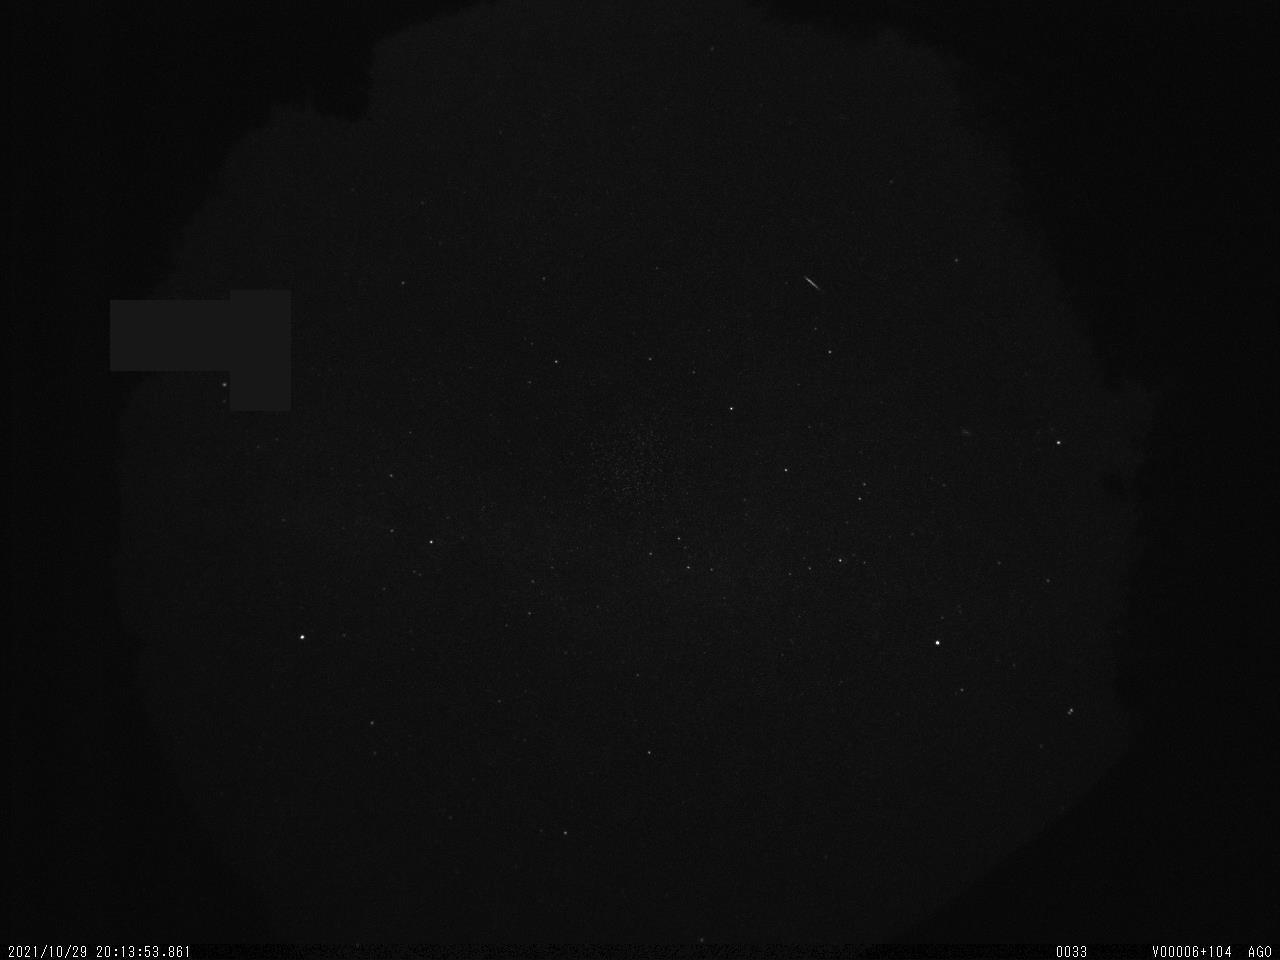meteor: (796, 272, 823, 296)
